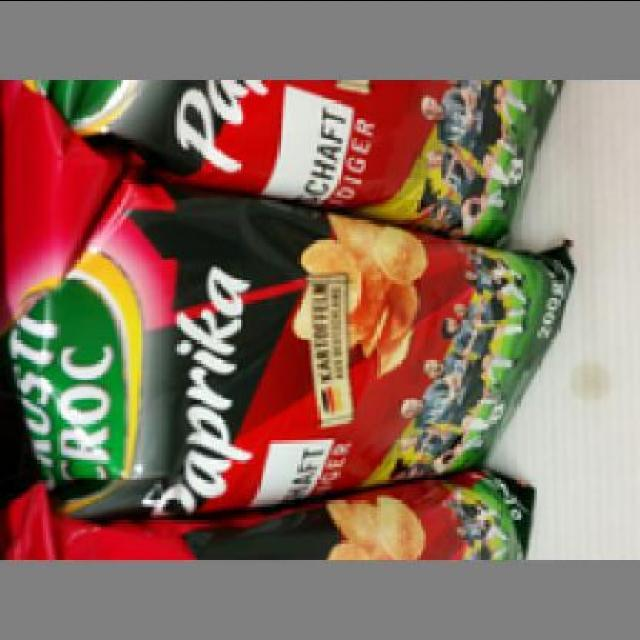Chips: (9, 177, 569, 517), (23, 83, 571, 251)
